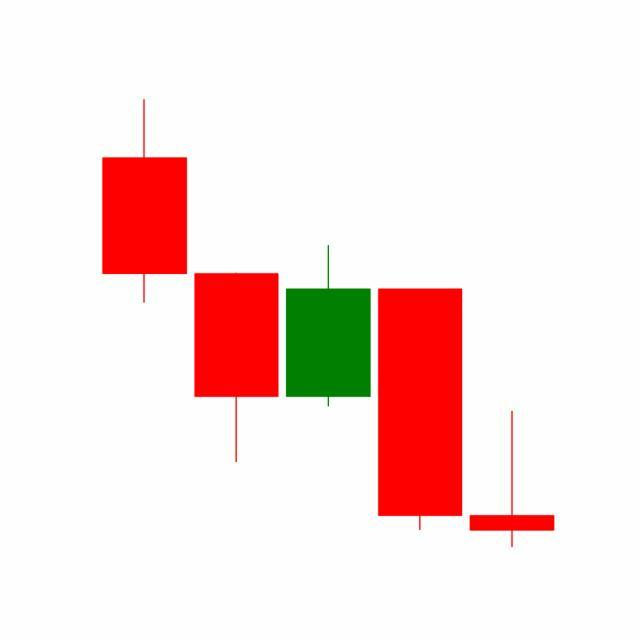Marubozu: (374, 286, 468, 533)
